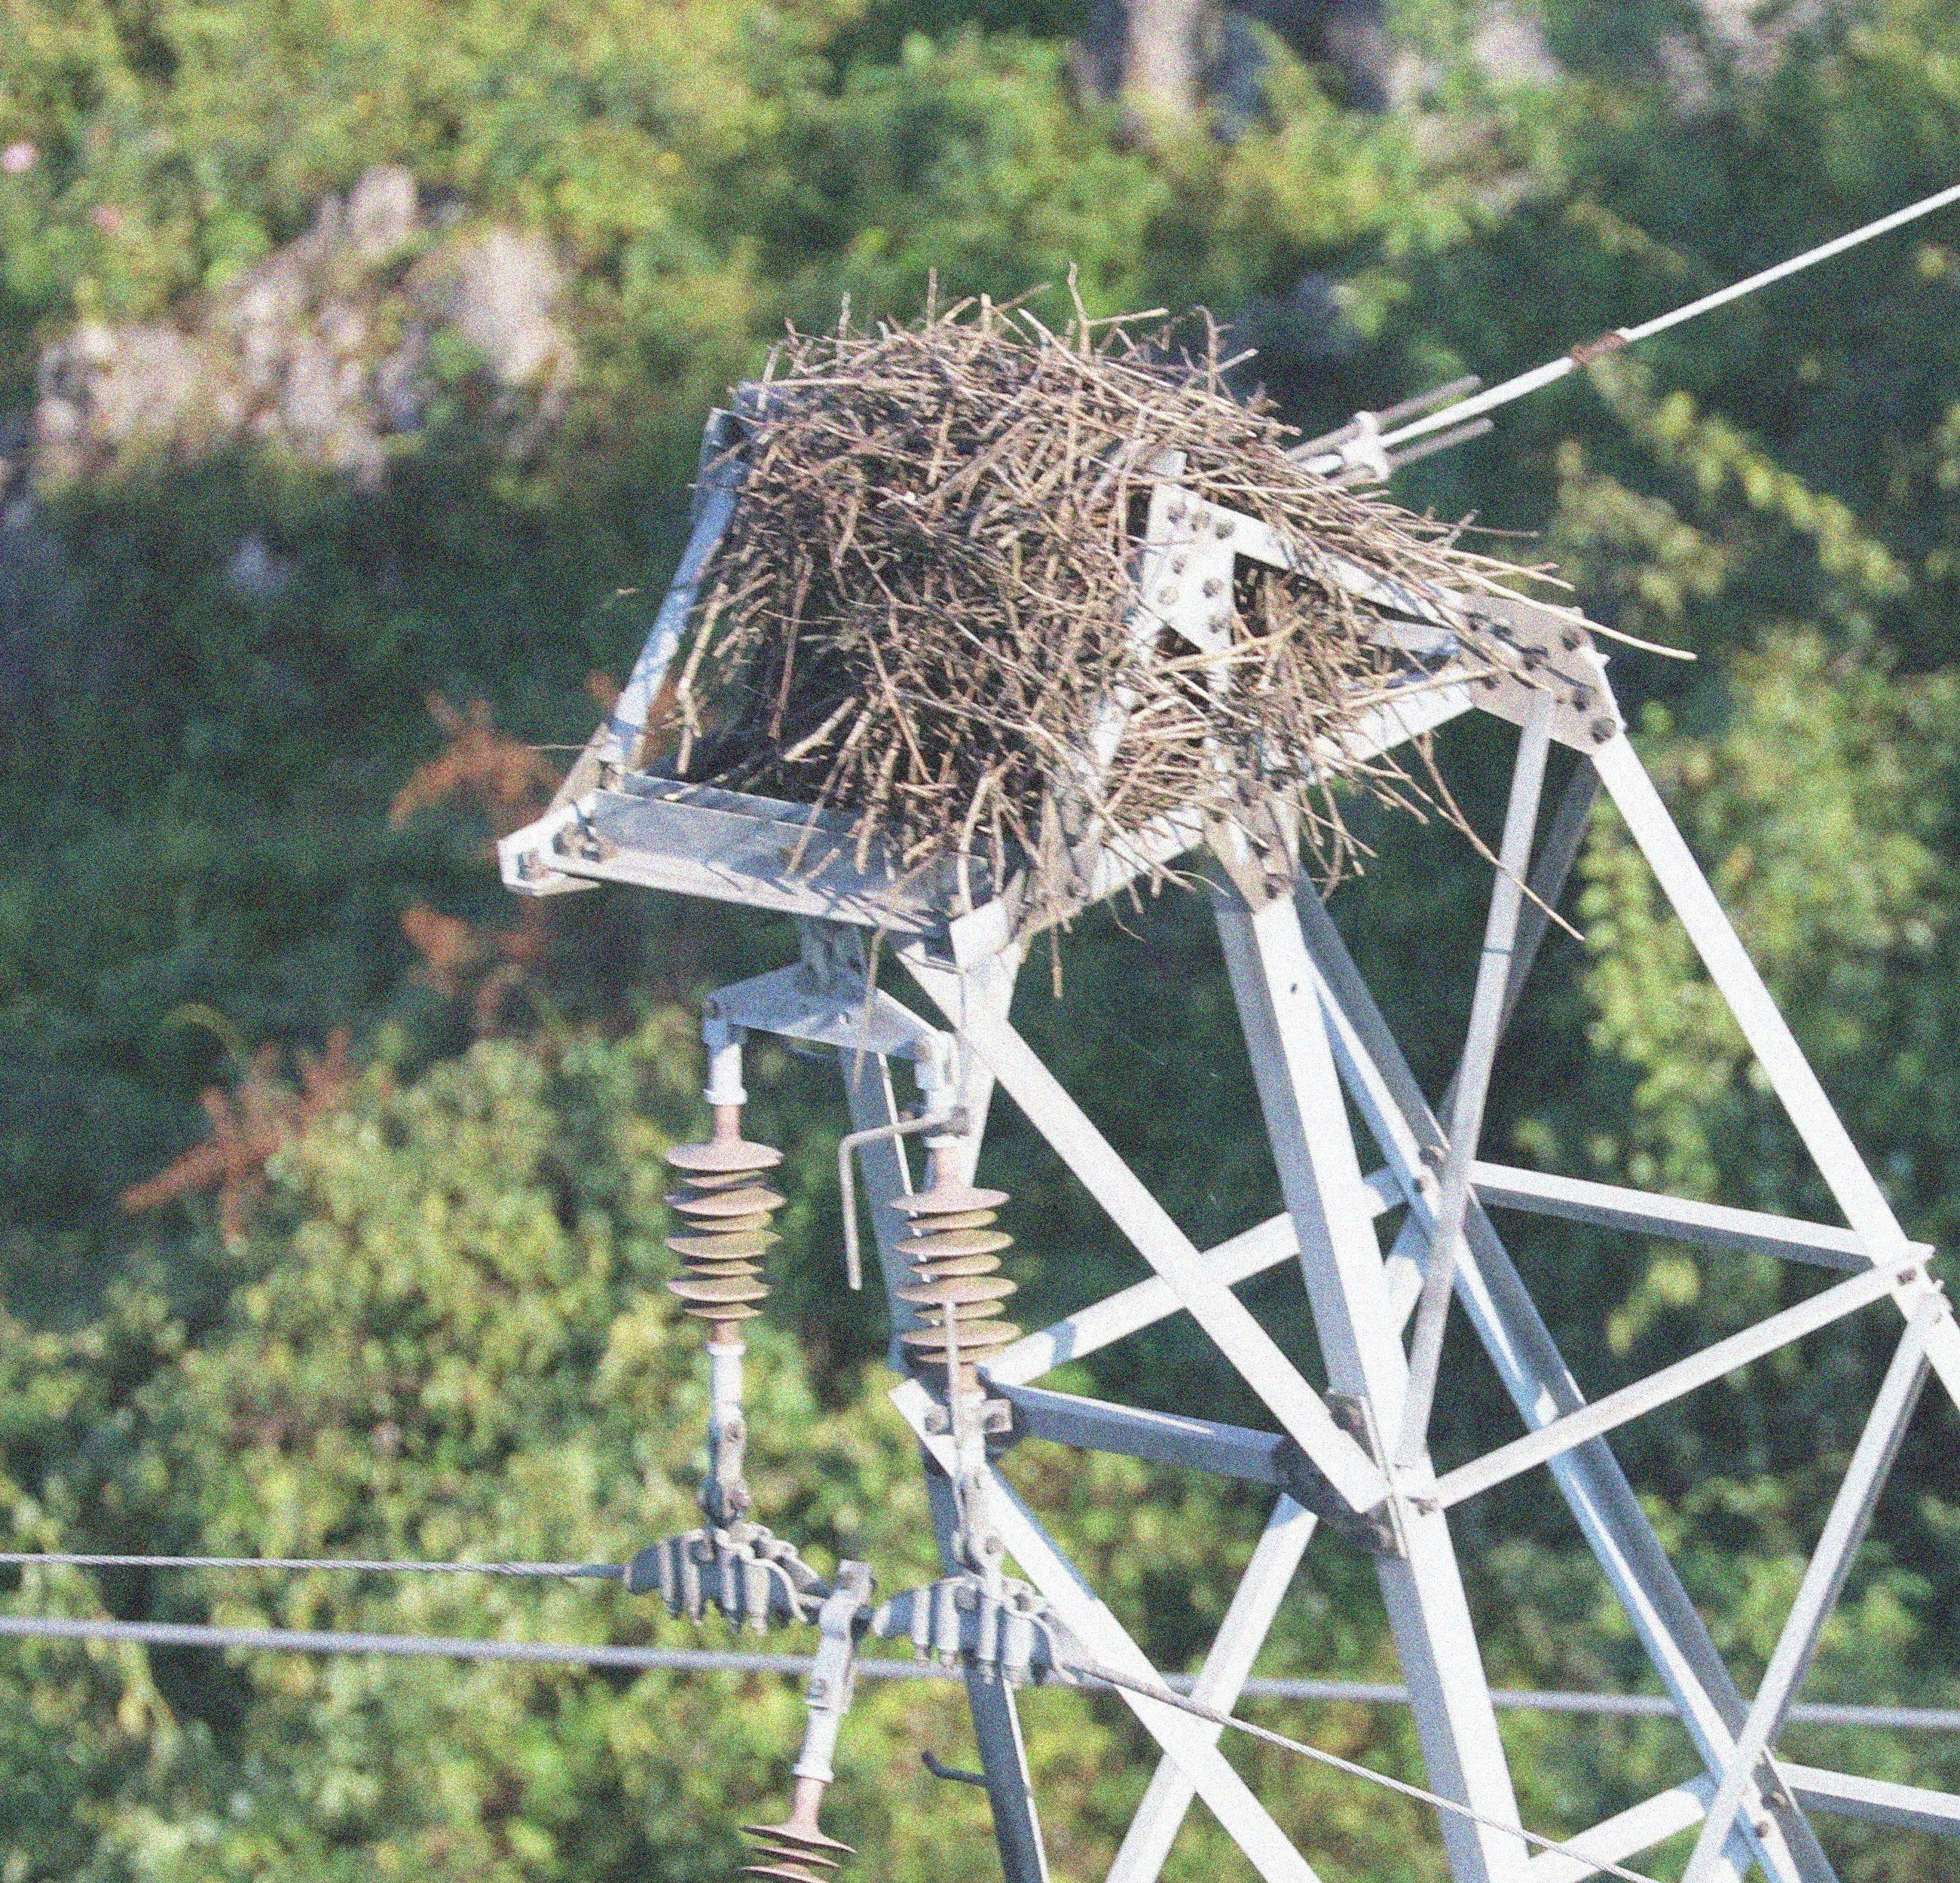niaowo: (695, 306, 1491, 912)
